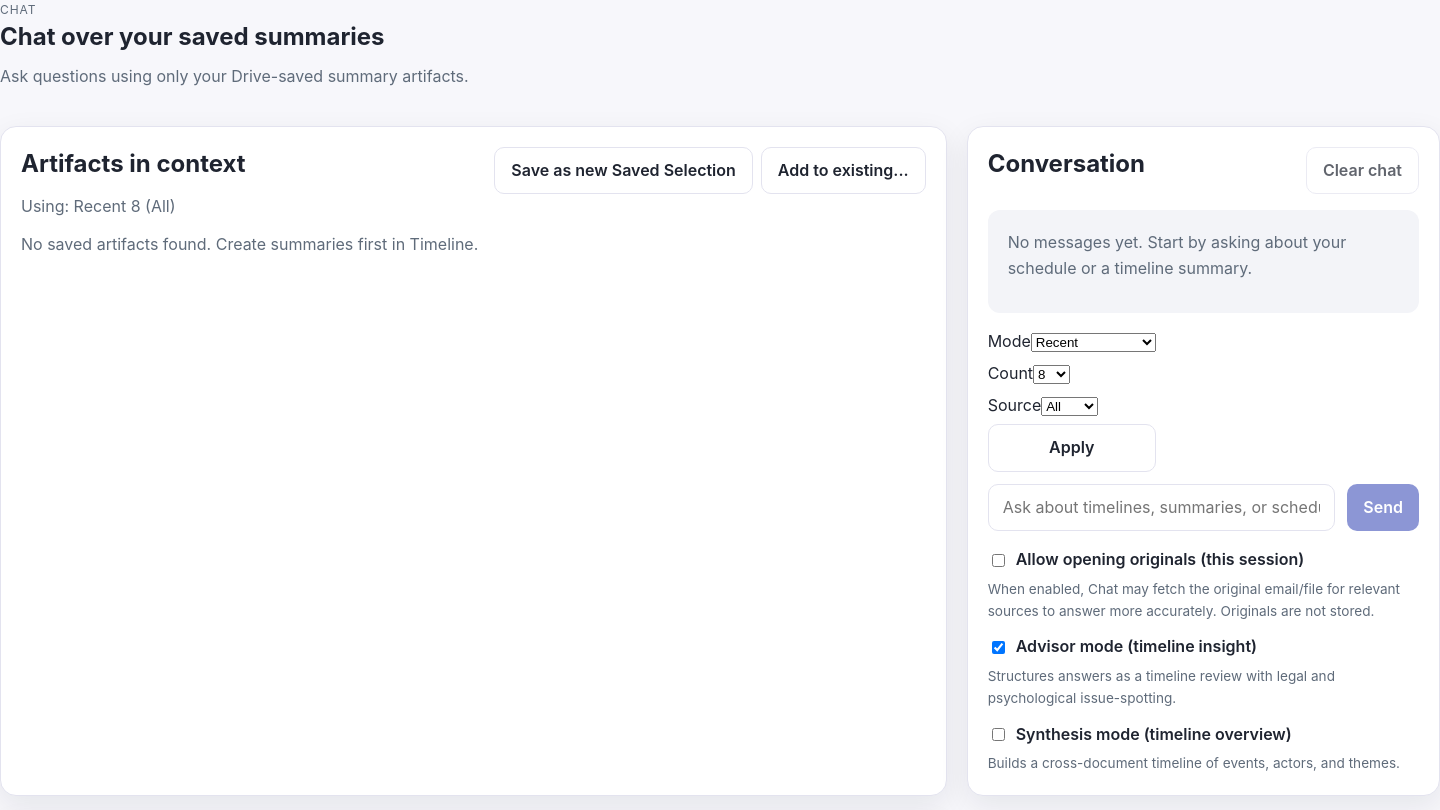
Test case: ChatPageClient › renders selection set and run citations to /saved-searches while keeping summary links
Type "show citations" into the field named "chat input".
click(1162, 508); type("show citations")  # box [988,484,1335,531]
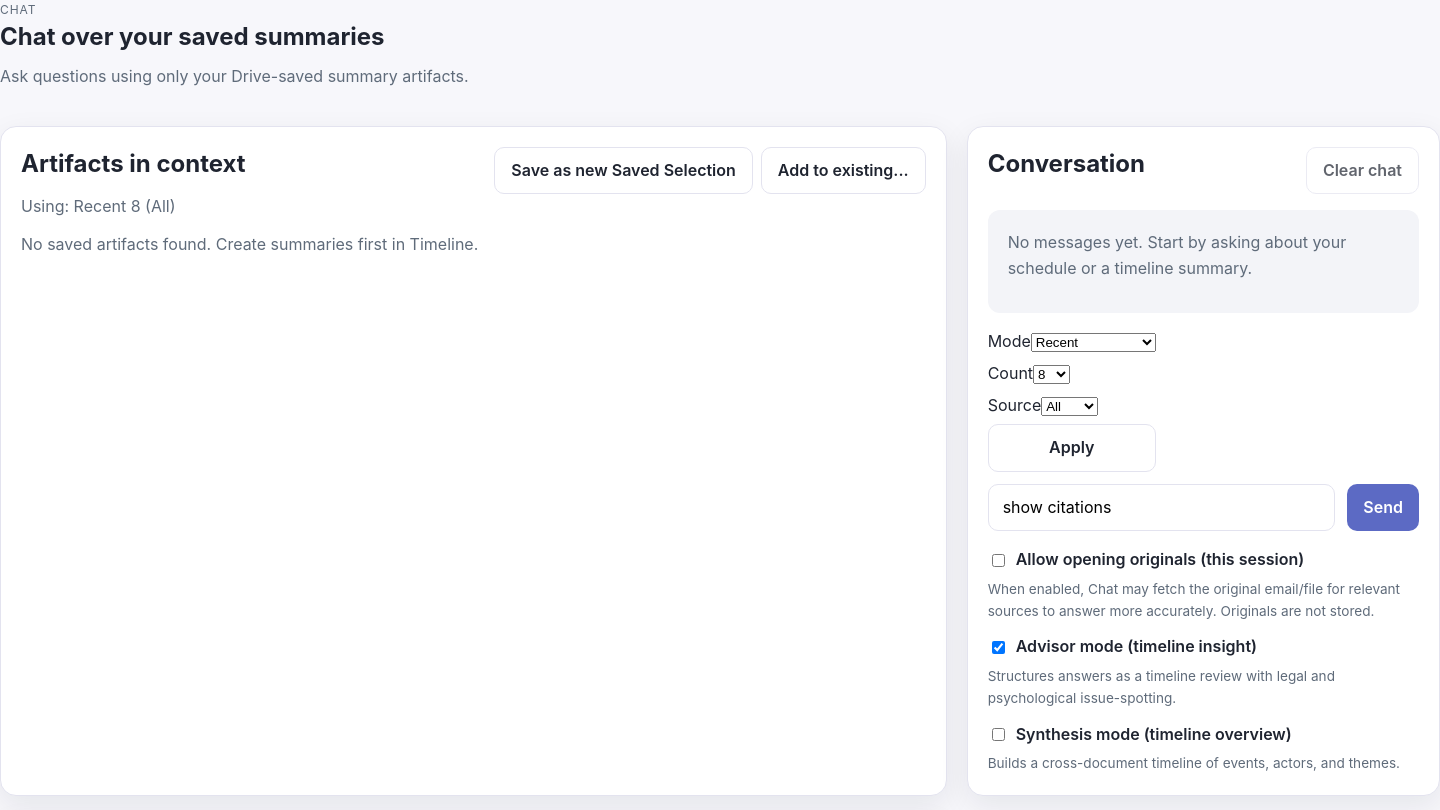
Click the button "Send".
click(1383, 508)  # box [1347,484,1419,531]
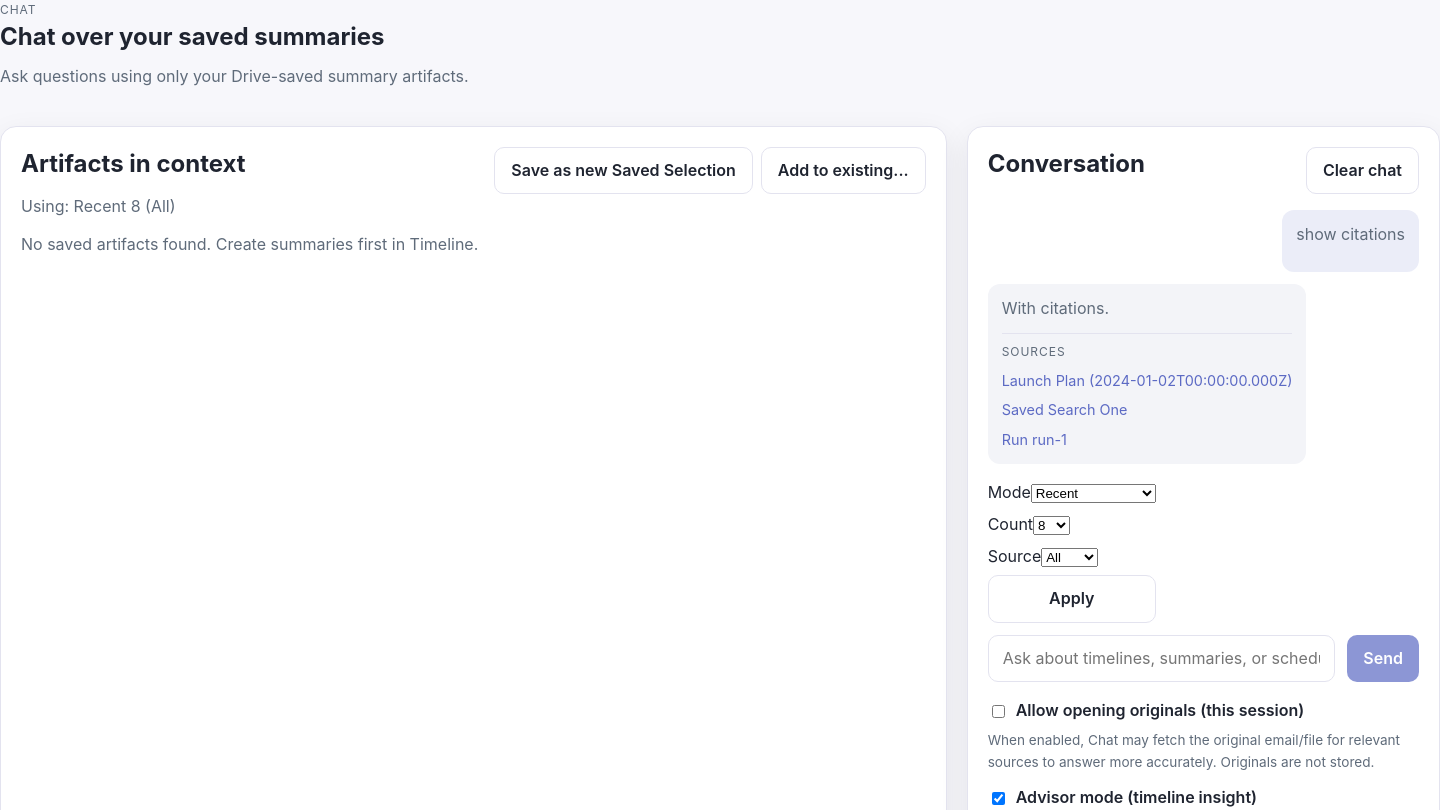
Expected: the text "With citations." is shown, [1002,298,1109,318]
